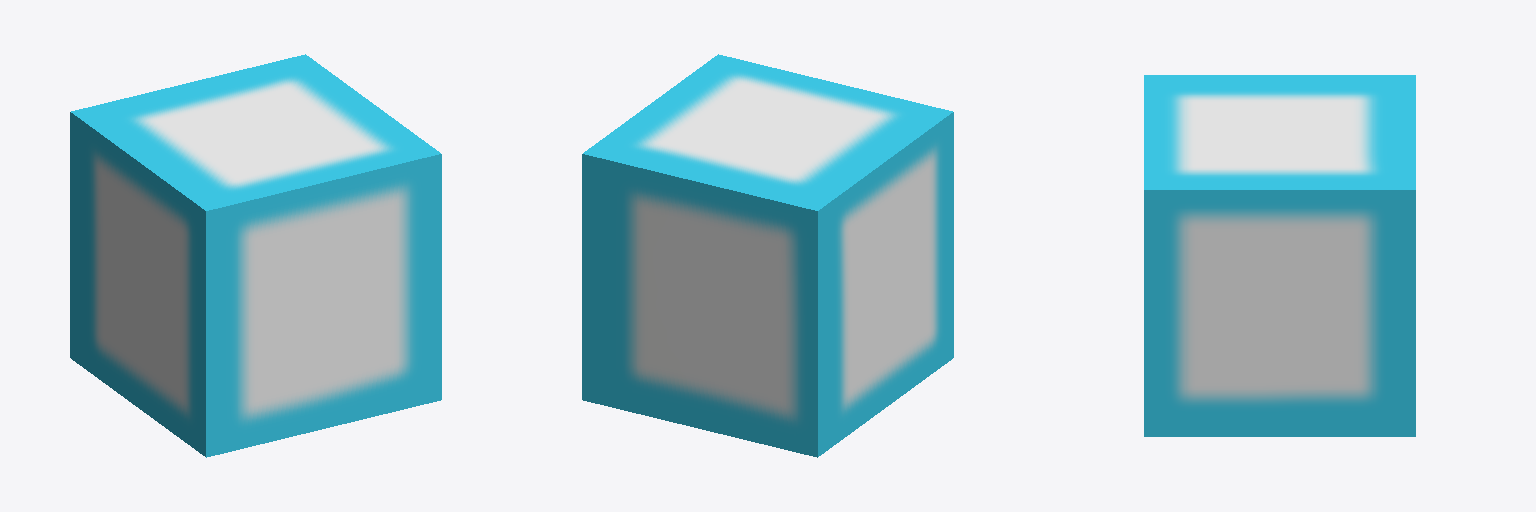
3 views of the same model, side by side, from view 1: azimuth 30°, elevation 25°; view 2: azimuth 150°, elevation 25°; view 3: azimuth 270°, elevation 25° (orthographic).
Visible parts, largest first — view 1: 立方体; view 2: 立方体; view 3: 立方体.
Boxes of the visible parts, x1,y1,x2,y2 form: 立方体: [70, 54, 441, 457]; 立方体: [582, 54, 953, 457]; 立方体: [1144, 75, 1415, 436].
Bounding box in the file's own units: 2 × 2 × 2.
1 materials, 1 textured.